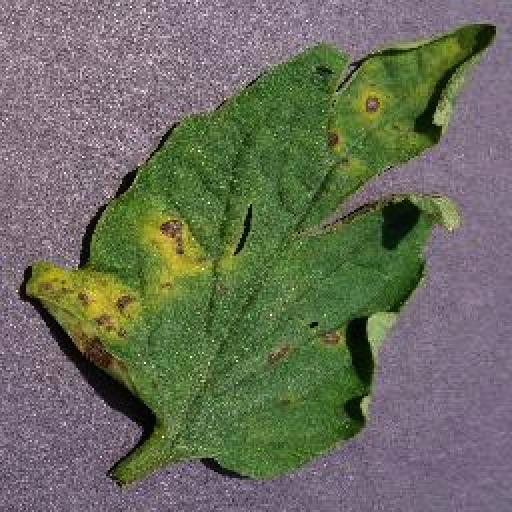disease_tomato: (24, 18, 498, 478)
